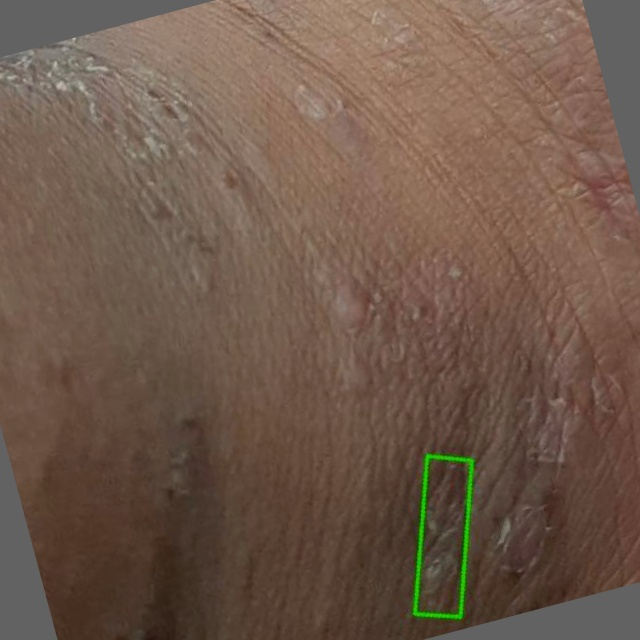Eczema: (414, 457, 471, 617)
